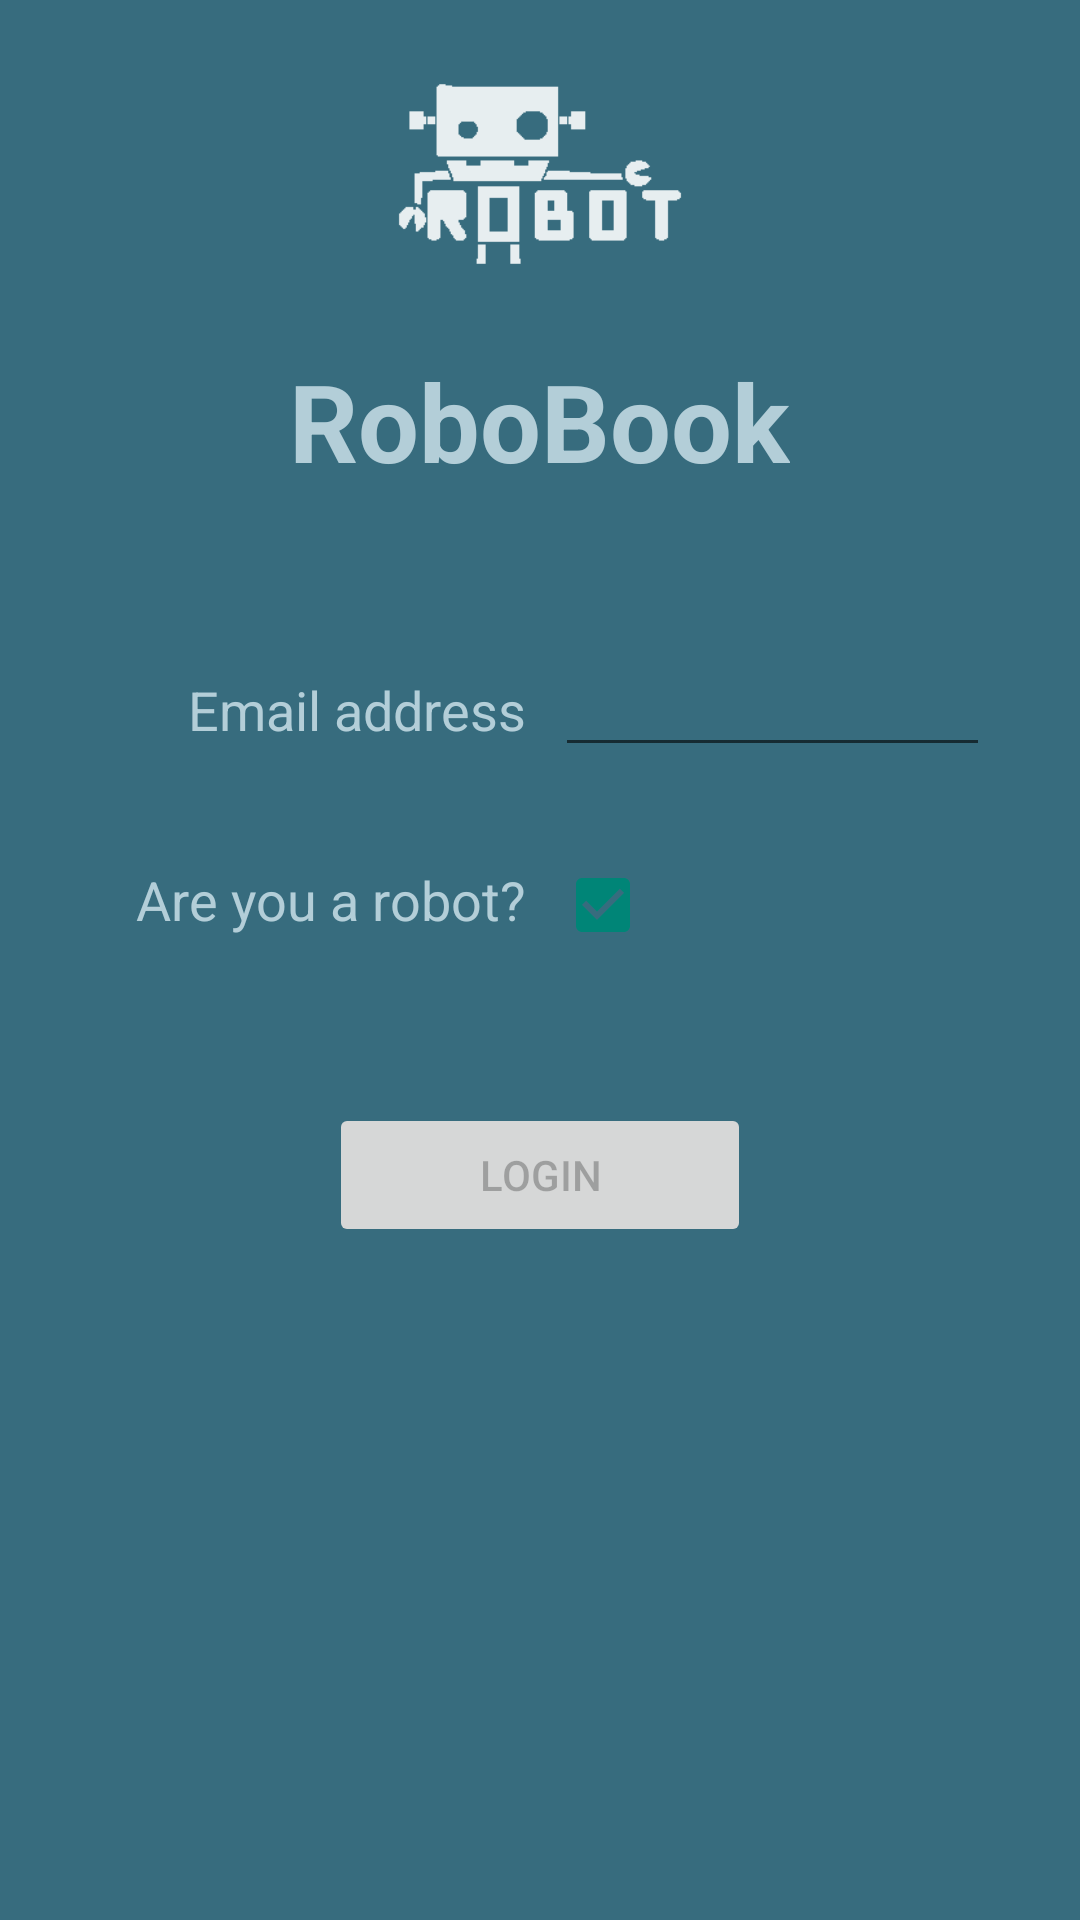

Icons on this 1080×1920 Android screen, each with its box as (x1, y1, x2, y2):
krazyrobot: (399, 84, 681, 264)
